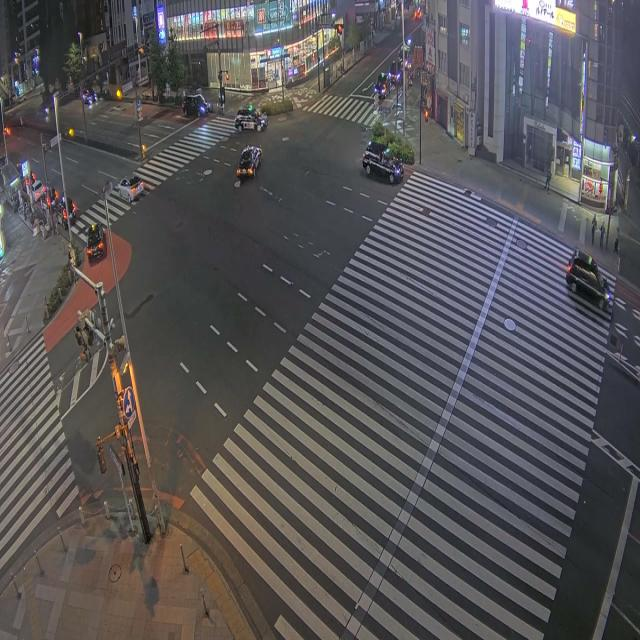car: (566, 250, 612, 310), (363, 141, 403, 183), (235, 107, 267, 132), (237, 146, 261, 178), (86, 224, 105, 262), (118, 176, 144, 202), (54, 198, 76, 227), (182, 95, 211, 116), (374, 73, 389, 98), (61, 195, 77, 218), (388, 59, 401, 84), (32, 180, 46, 202), (82, 89, 96, 105), (414, 8, 422, 20)
